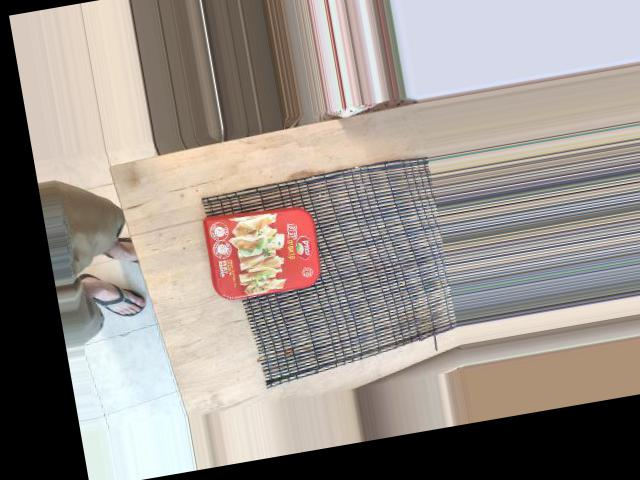cheese: (151, 184, 334, 316)
